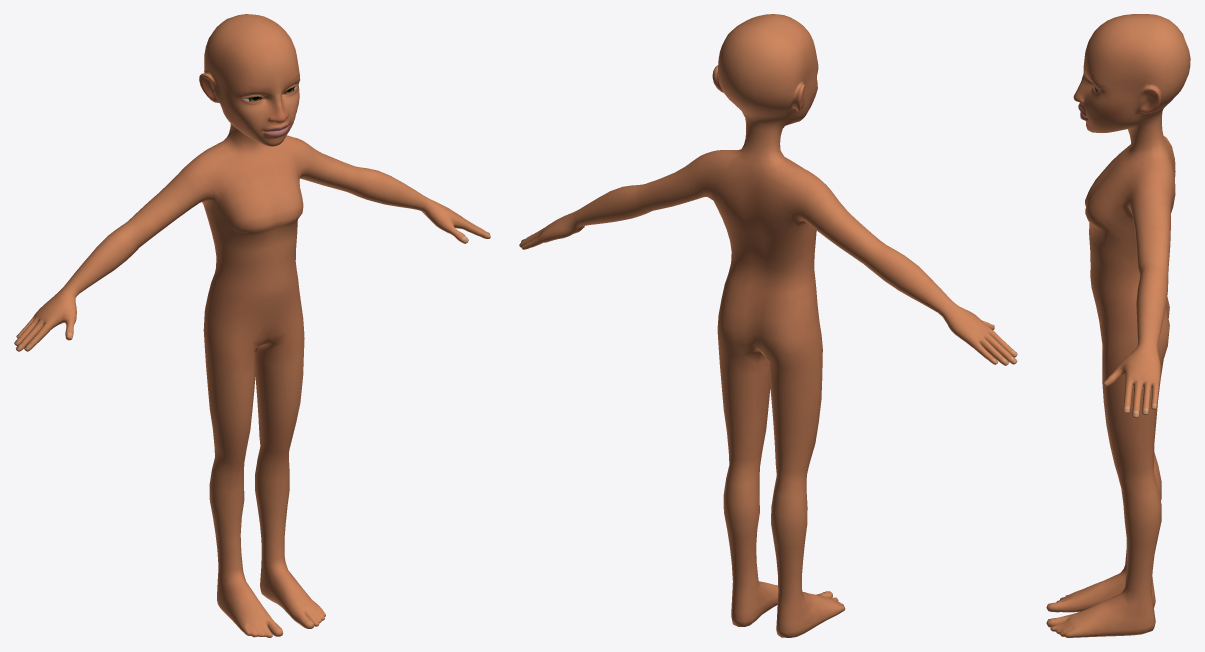
File: frame_0071.glb
3 renders of one model, left to right at view 1: azimuth 30°, elevation 25°; view 2: azimuth 150°, elevation 25°; view 3: azimuth 270°, elevation 25°, orthographic. The views are drawn at different scales.
Visible parts, largest first — view 1: frame_0071_head_geo; view 2: frame_0071_head_geo; view 3: frame_0071_head_geo.
Part boxes in pixels (<box>): frame_0071_head_geo: <box>14,14,490,637</box>; frame_0071_head_geo: <box>519,14,1017,637</box>; frame_0071_head_geo: <box>1046,14,1190,637</box>.
Size of the model in its own units: 1.28 by 1.5 by 0.3253.
Materials: 3 (3 with a texture image).
